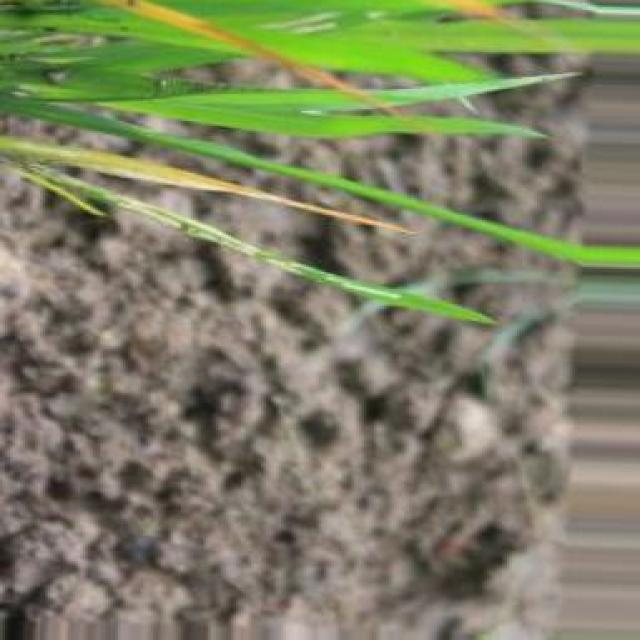Rice Tungro: (0, 138, 415, 233), (103, 0, 400, 114)
